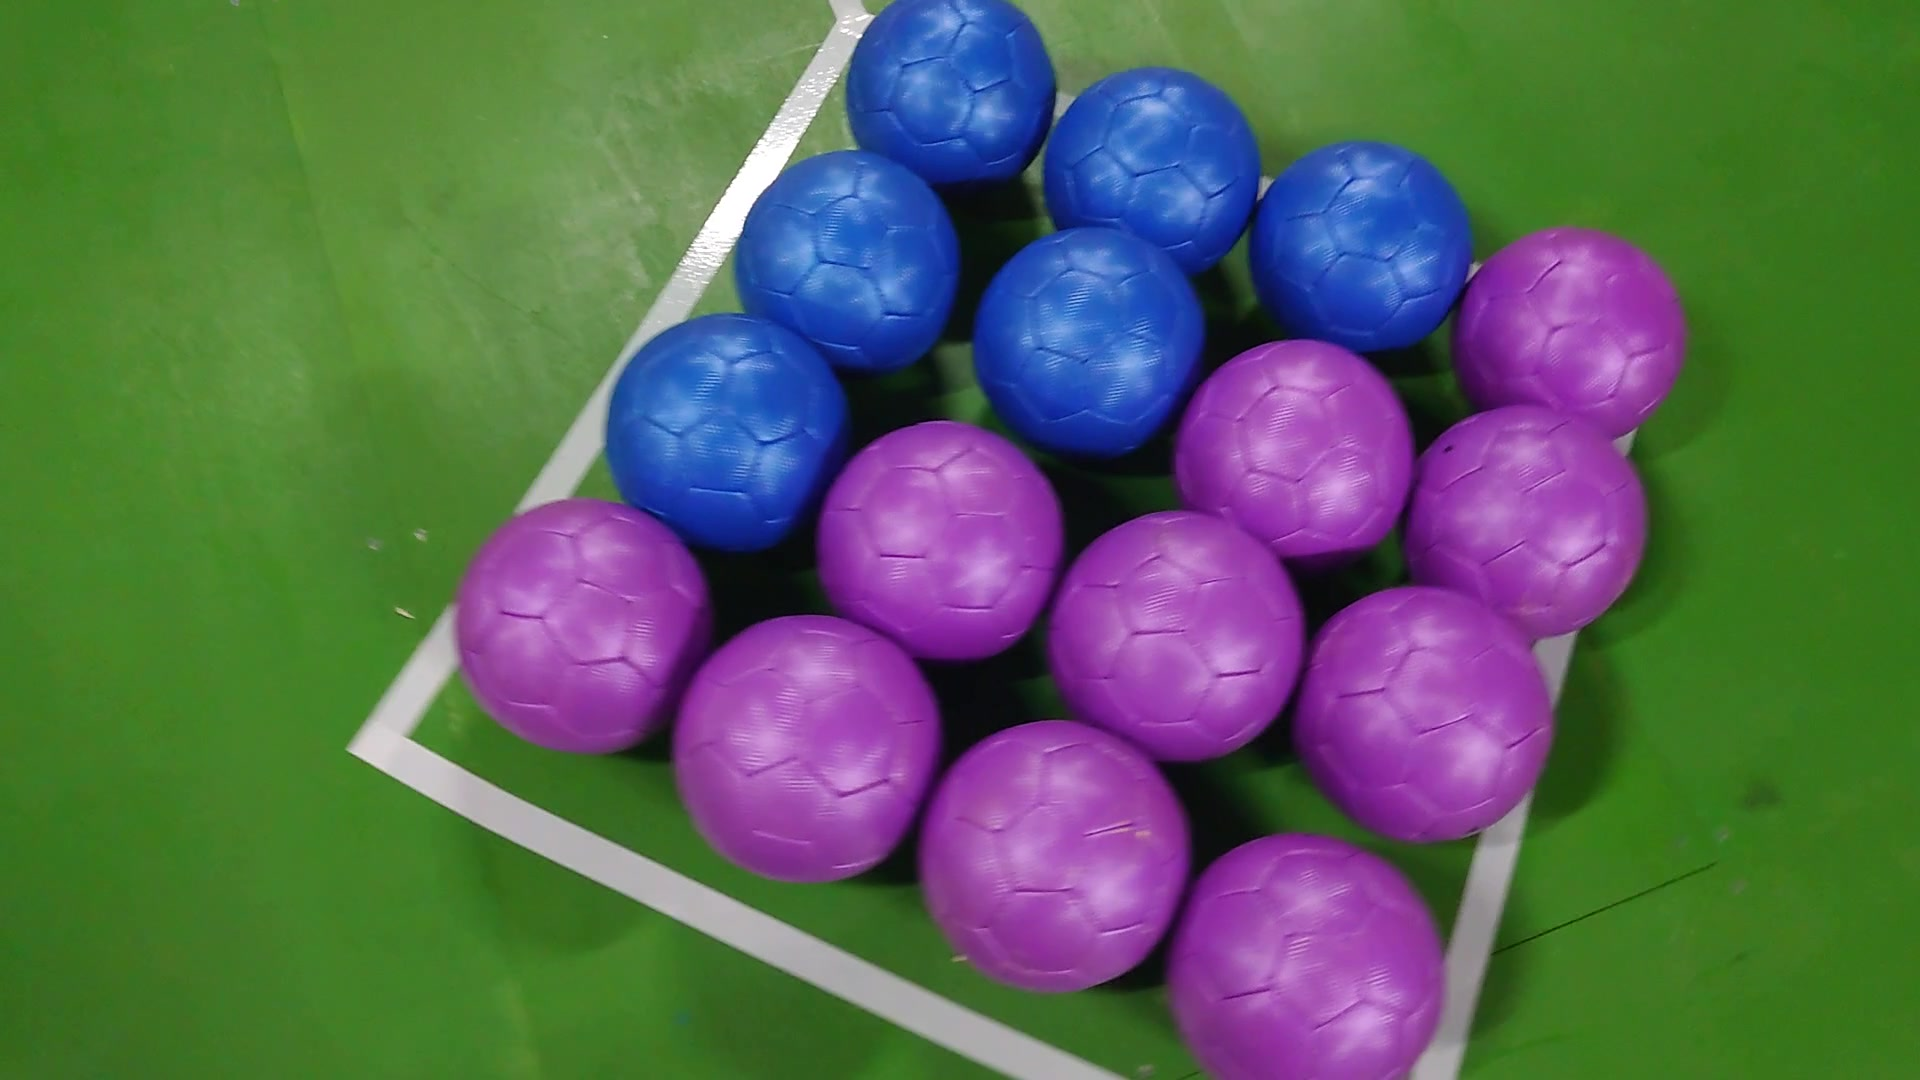blue: (604, 307, 852, 562), (732, 146, 963, 376), (969, 228, 1205, 447), (1247, 135, 1476, 336), (1038, 62, 1267, 255), (845, 0, 1062, 190)
purple: (914, 719, 1192, 989), (670, 611, 938, 882), (1294, 582, 1557, 845), (1168, 832, 1447, 1075), (1048, 506, 1303, 767), (454, 500, 708, 752), (814, 421, 1068, 663), (1400, 402, 1648, 640), (1168, 336, 1414, 555), (1447, 225, 1692, 431)
